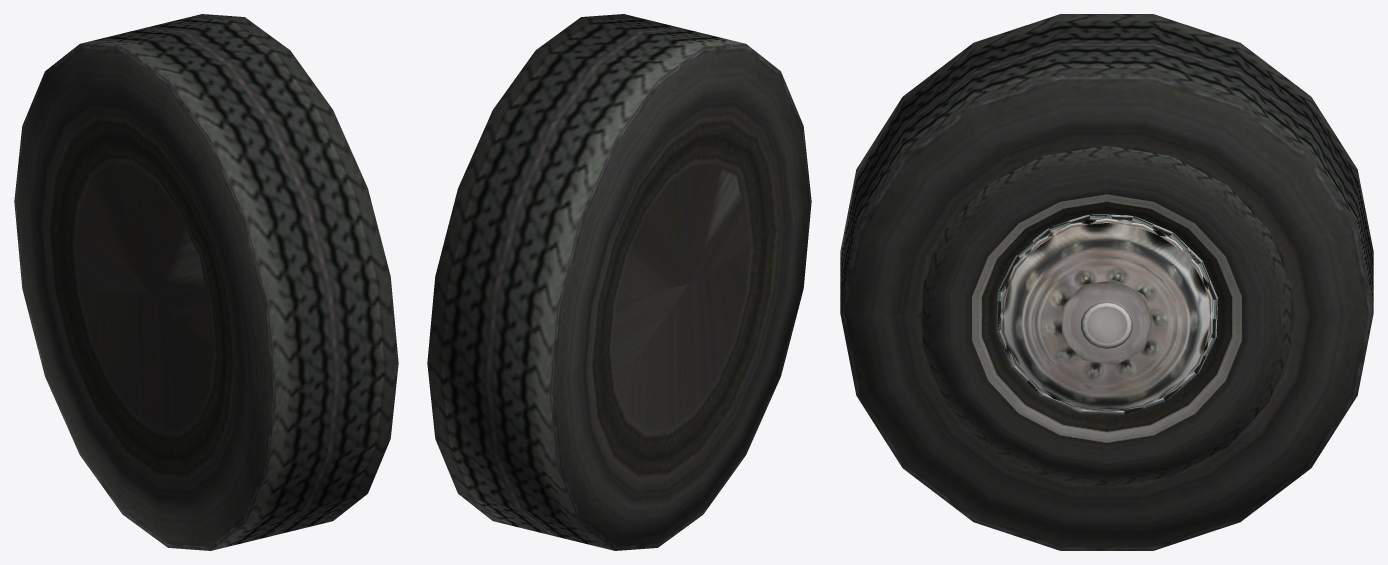
The model's file is WheelPack.FBX.
3 views of the same model, side by side, from view 1: azimuth 30°, elevation 25°; view 2: azimuth 150°, elevation 25°; view 3: azimuth 270°, elevation 25° (orthographic).
Parts seen in each view (by area): view 1: UAA_SemiWhl; view 2: UAA_SemiWhl; view 3: UAA_SemiWhl, UAA_TIR-WW2, UAA_TIR-WW1, UAA_TruckWhl, UAA_WHL-Wire, UAA_Hubcap20, UAA_WHL-SteelBK, UAA_Hubcap1, UAA_Hubcap11.
Boxes of the visible parts, x1,y1,x2,y2 form: UAA_SemiWhl: [14, 14, 398, 550]; UAA_SemiWhl: [427, 14, 811, 550]; UAA_SemiWhl: [840, 14, 1373, 550]; UAA_TIR-WW2: [922, 146, 1291, 486]; UAA_TIR-WW1: [959, 184, 1254, 455]; UAA_TruckWhl: [922, 150, 1291, 387]; UAA_WHL-Wire: [996, 214, 1217, 414]; UAA_Hubcap20: [1002, 219, 1211, 411]; UAA_WHL-SteelBK: [997, 214, 1217, 414]; UAA_Hubcap1: [1081, 300, 1132, 348]; UAA_Hubcap11: [1001, 217, 1212, 412].
Size of the model in its own units: 35.14 by 99.9 by 101.
